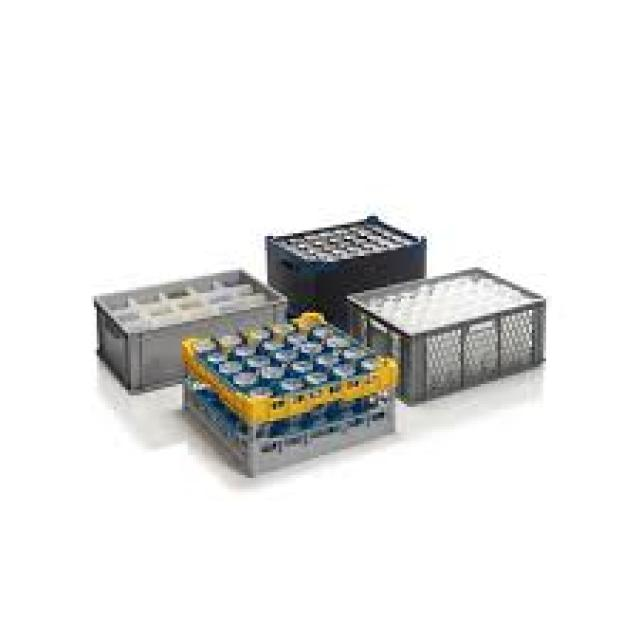basket: (165, 280, 418, 491), (341, 240, 565, 417), (84, 248, 301, 402), (261, 209, 440, 339)
